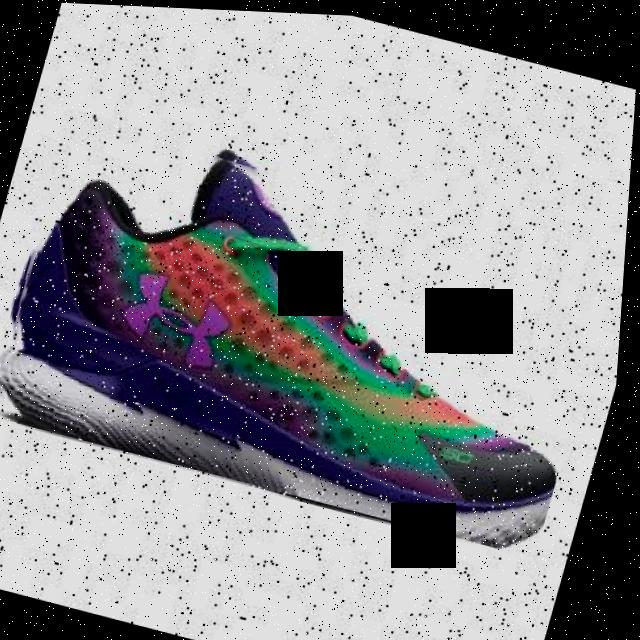shoe: (0, 105, 630, 555)
